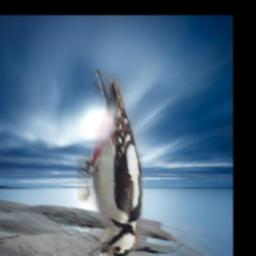Woodpecker: (78, 71, 144, 256)
